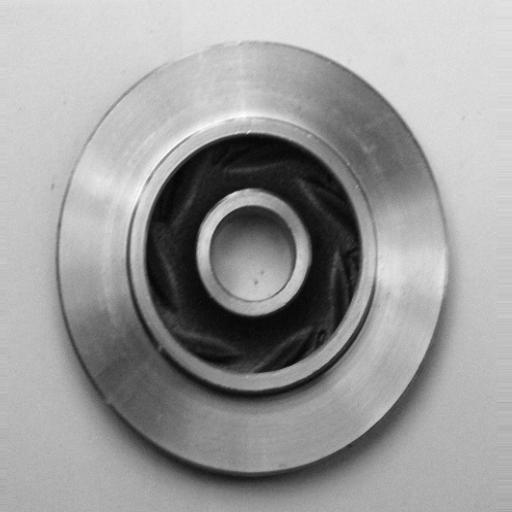unpolished_casting: (53, 40, 455, 482)
